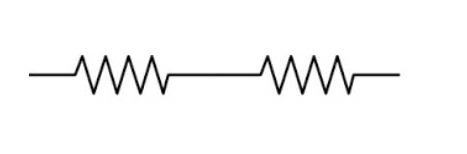resistor: (236, 45, 374, 107), (50, 46, 190, 107)
